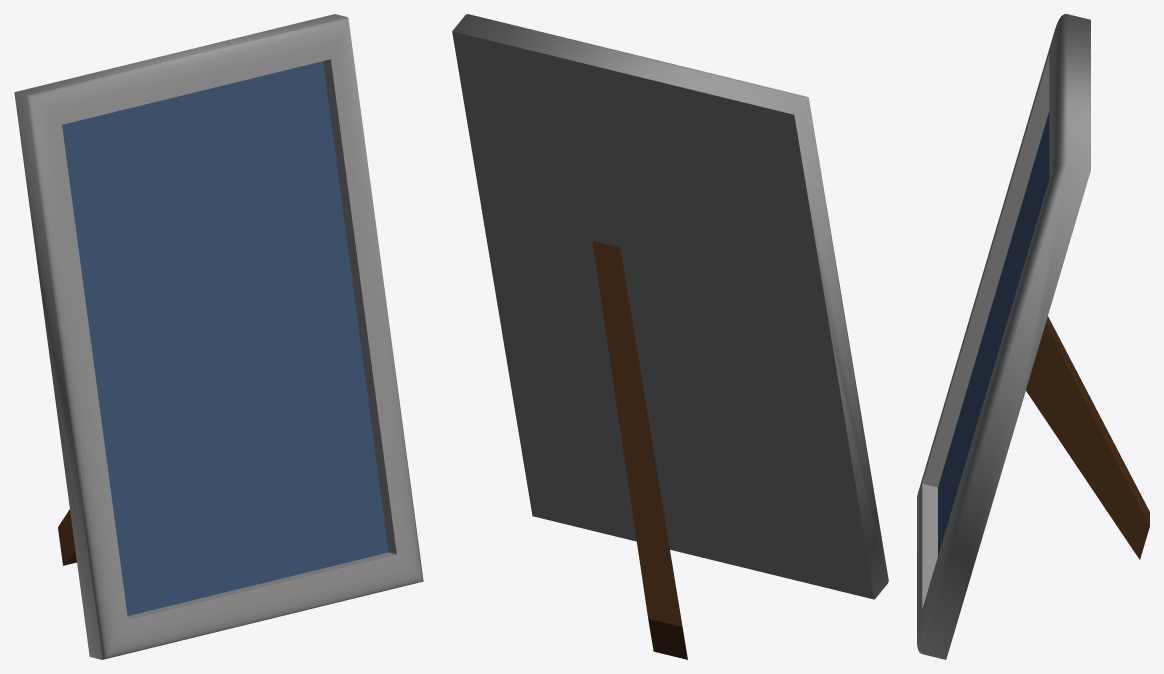
The model's file is PictureFrame.FBX.
3 views of the same model, side by side, from view 1: azimuth 30°, elevation 25°; view 2: azimuth 150°, elevation 25°; view 3: azimuth 270°, elevation 25° (orthographic). The views are drawn at different scales.
Visible parts, largest first — view 1: PictureFrame; view 2: PictureFrame; view 3: PictureFrame.
Boxes of the visible parts, <box> form: PictureFrame: <box>14,14,423,659</box>; PictureFrame: <box>452,14,888,659</box>; PictureFrame: <box>917,14,1149,659</box>.
Bounding box in the file's own units: 26.85 × 41.32 × 17.55.
